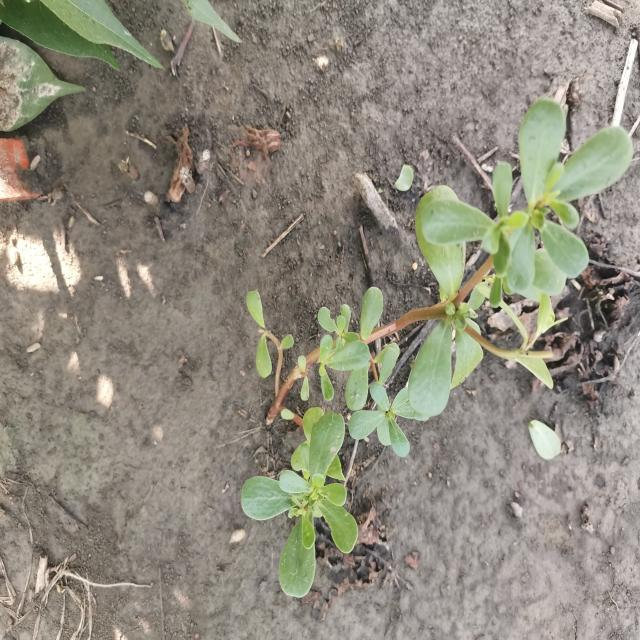Purslane: (239, 93, 636, 602)
